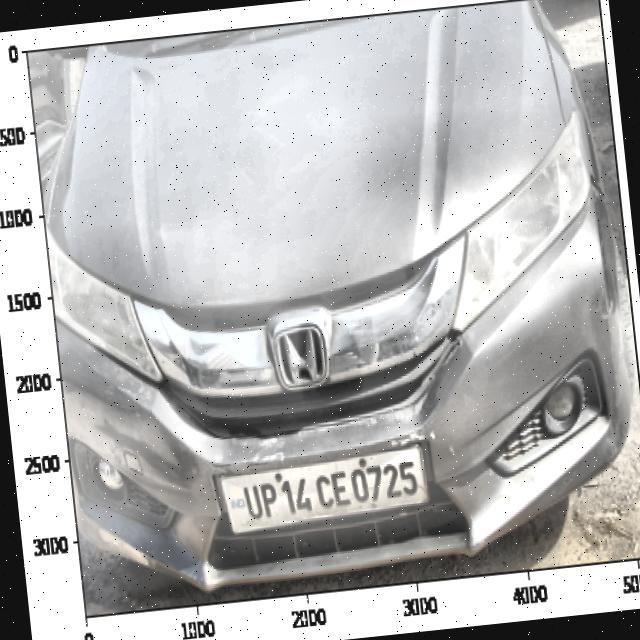license_plate: (238, 451, 424, 532)
